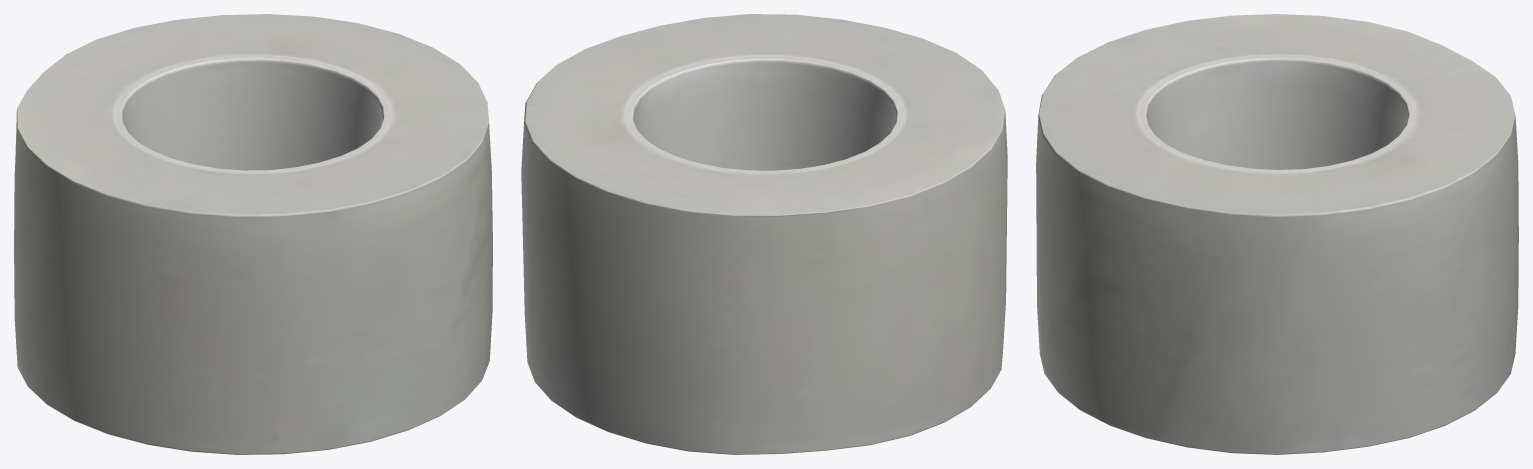
The model's file is medical_tape.glb.
The picture shows the model from 3 angles, left to right: view 1: azimuth 30°, elevation 25°; view 2: azimuth 150°, elevation 25°; view 3: azimuth 270°, elevation 25°; orthographic projection.
Parts seen in each view (by area): view 1: medical_tape; view 2: medical_tape; view 3: medical_tape.
Part boxes in pixels (left/top/right/bottom): medical_tape: left=14, top=14, right=492, bottom=454; medical_tape: left=521, top=14, right=1007, bottom=454; medical_tape: left=1036, top=14, right=1518, bottom=454.
Size of the model in its own units: 0.0453 by 0.025 by 0.0452.
Materials: 1 (1 with a texture image).
